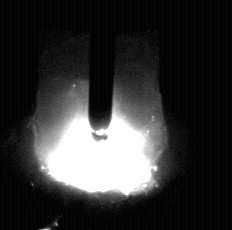arame: (90, 0, 114, 131)
poca: (34, 0, 167, 230)
